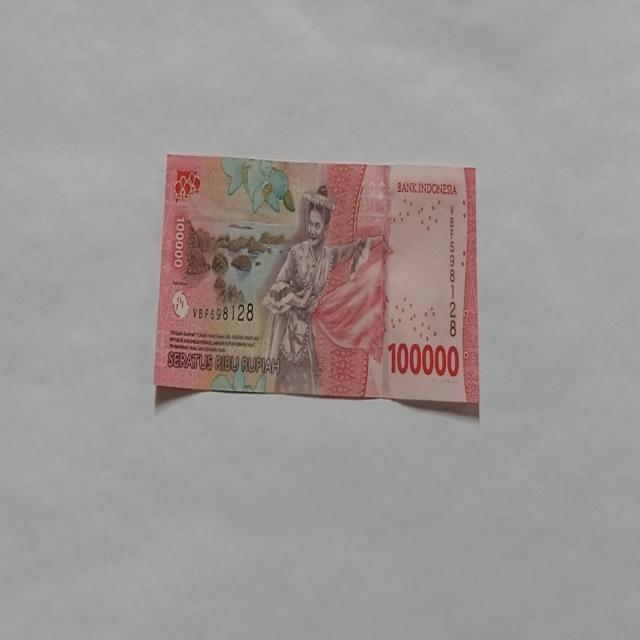seratus ribu rupiah: (152, 152, 480, 412), (256, 184, 386, 396)
